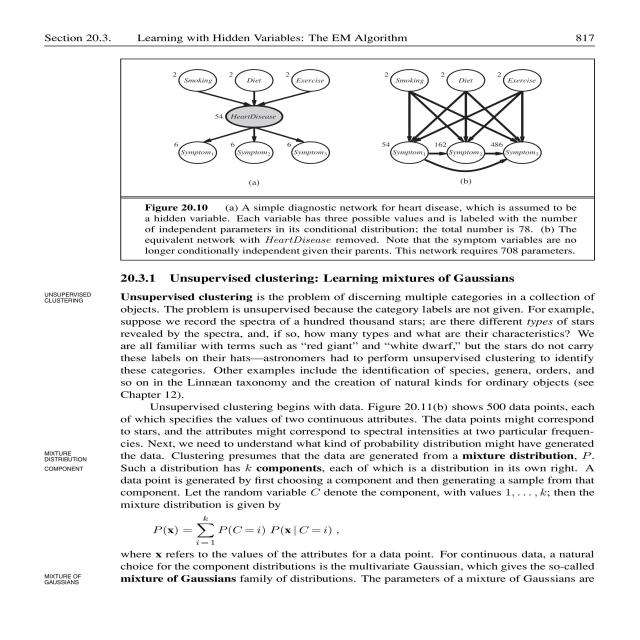diagram: (96, 53, 602, 262)
